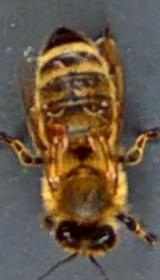varroa_mite: (34, 104, 83, 148)
